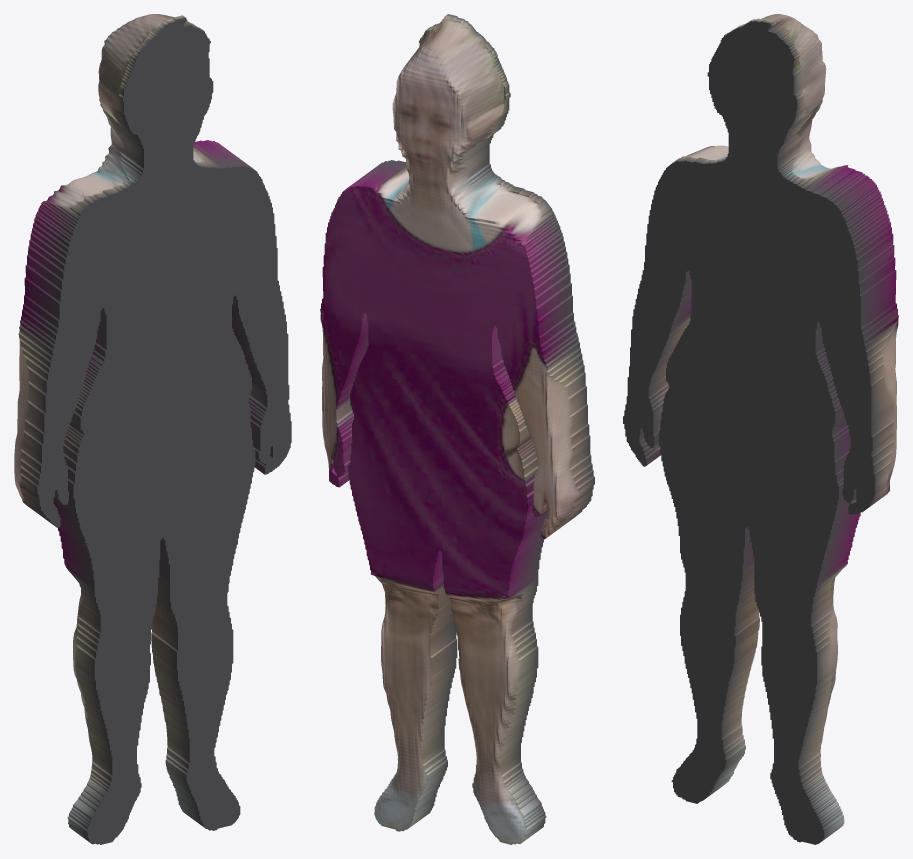
The model's file is avatar_111031.glb.
3 renders of one model, left to right at view 1: azimuth 30°, elevation 25°; view 2: azimuth 150°, elevation 25°; view 3: azimuth 330°, elevation 25°, orthographic.
Parts seen in each view (by area): view 1: world; view 2: world; view 3: world.
Part boxes in pixels (box(x1,y1,x2,y2)): world: box(14, 14, 291, 844); world: box(320, 14, 594, 844); world: box(623, 14, 898, 844).
Bounding box in the file's own units: 39.06 × 120 × 10.61.
